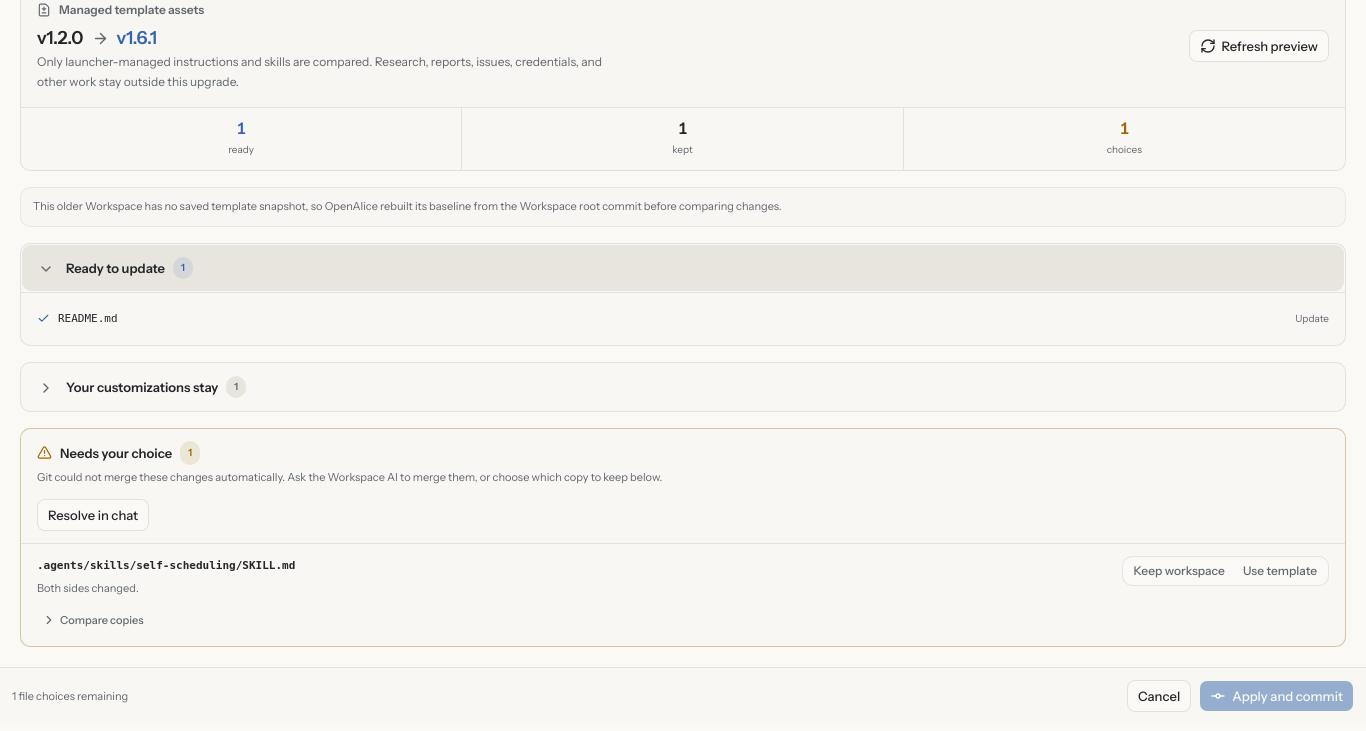
WorkspaceTemplateUpgradePanel › separates safe updates, protected customizations, and explicit conflict choices
Check: the text "Ready to update" is shown, box x1=66 y1=260 x2=165 y2=276
Check: the text "Your customizations stay" is shown, box x1=66 y1=379 x2=218 y2=395
Step 1. Click the button "Compare copies" → (93,620), box x1=37 y1=606 x2=149 y2=634
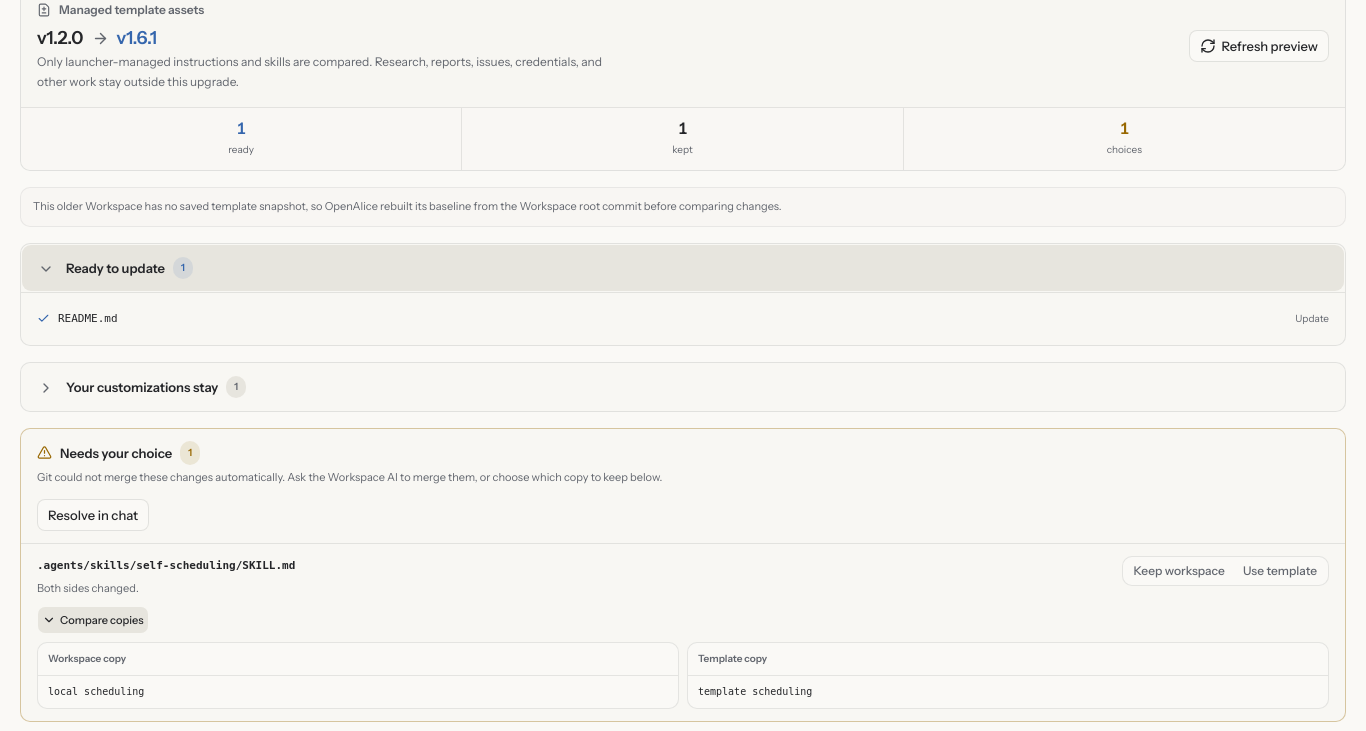
Check: the text "local scheduling" is shown, box x1=48 y1=686 x2=144 y2=697
Check: the text "template scheduling" is shown, box x1=698 y1=686 x2=812 y2=697
Step 2. Click the radio button labelled "Keep workspace" → (1179,571), box x1=1124 y1=559 x2=1234 y2=583
(page scrolled)
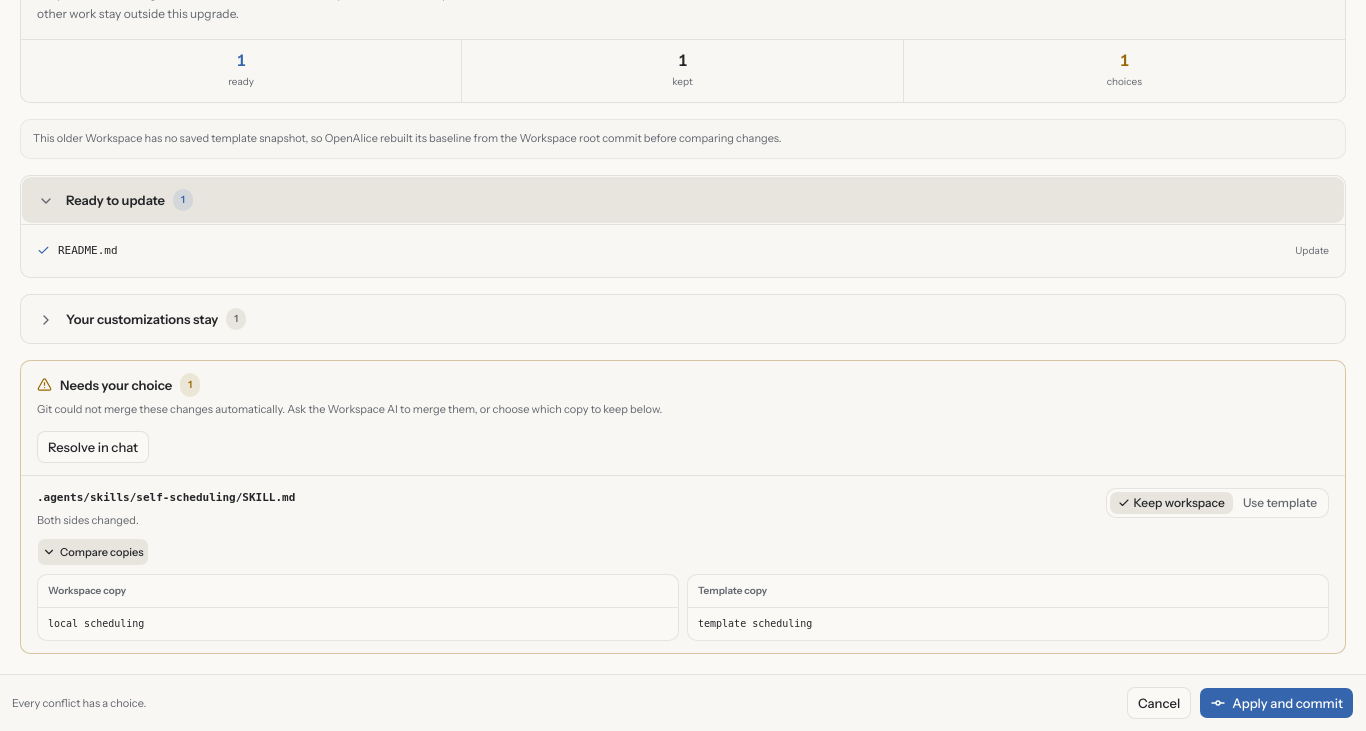
Check: the button "Apply and commit" is enabled, box x1=1199 y1=687 x2=1354 y2=719
